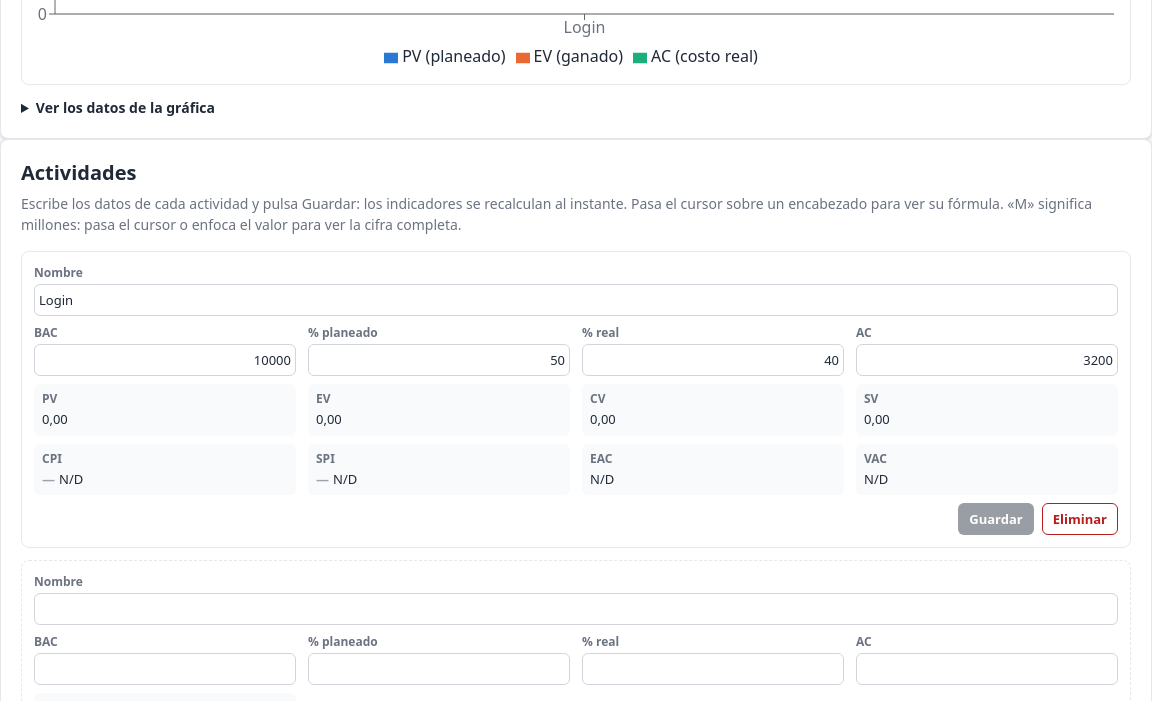
ActivitiesTable › shows the backend message when the save is rejected
(page scrolled)
Step 1. Replace the text in the number field named "BAC de Login" with "10000.005" → (165, 360), box [34,344,296,376]
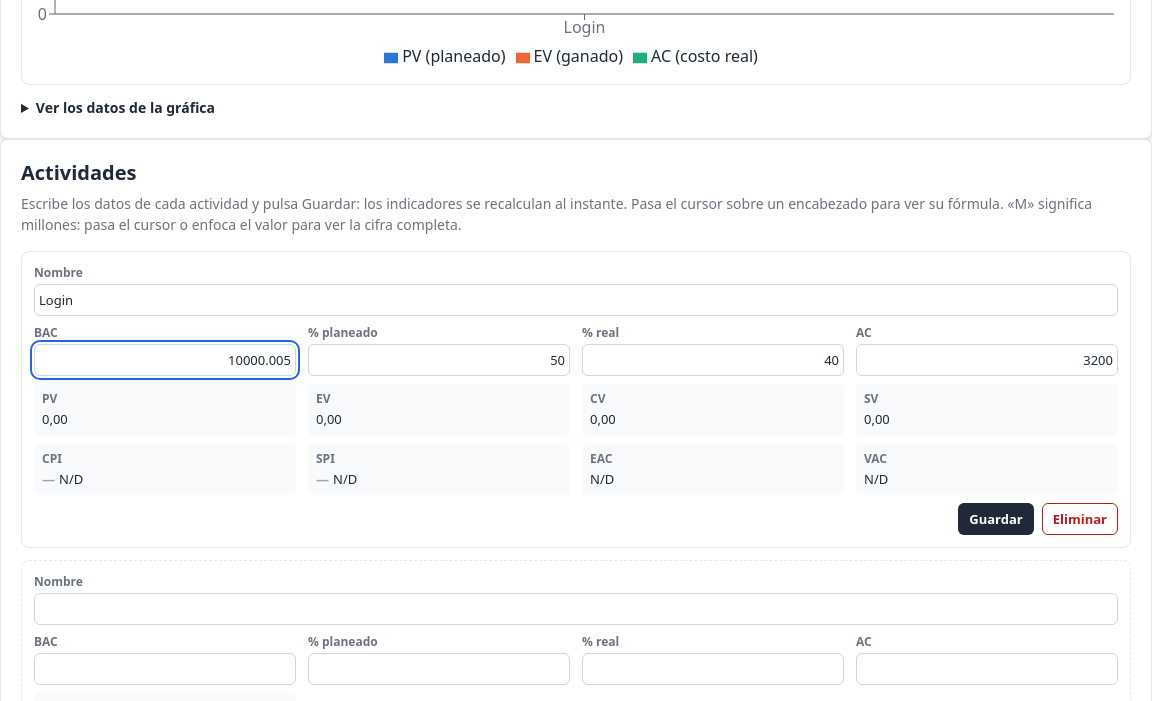
Step 2. Click the button "Guardar" → (996, 519), box [958,503,1034,535]
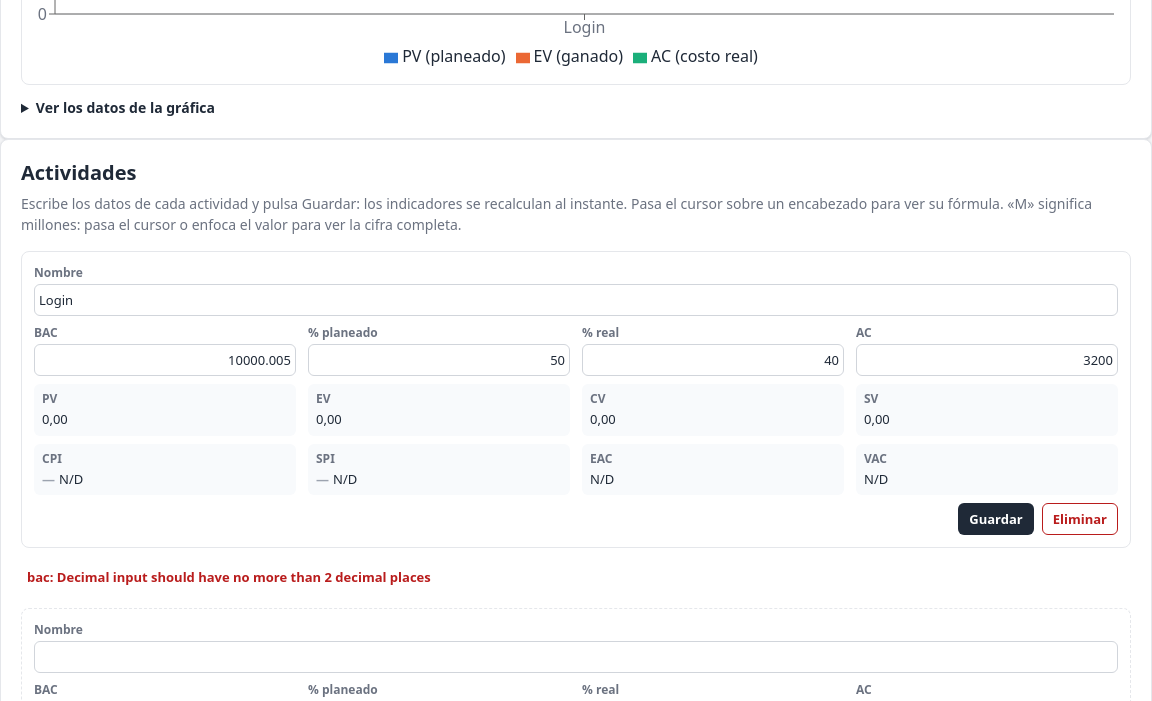
Expected: the message reads "bac: Decimal input should have no more than 2 decimal places", [27,568,431,586]
